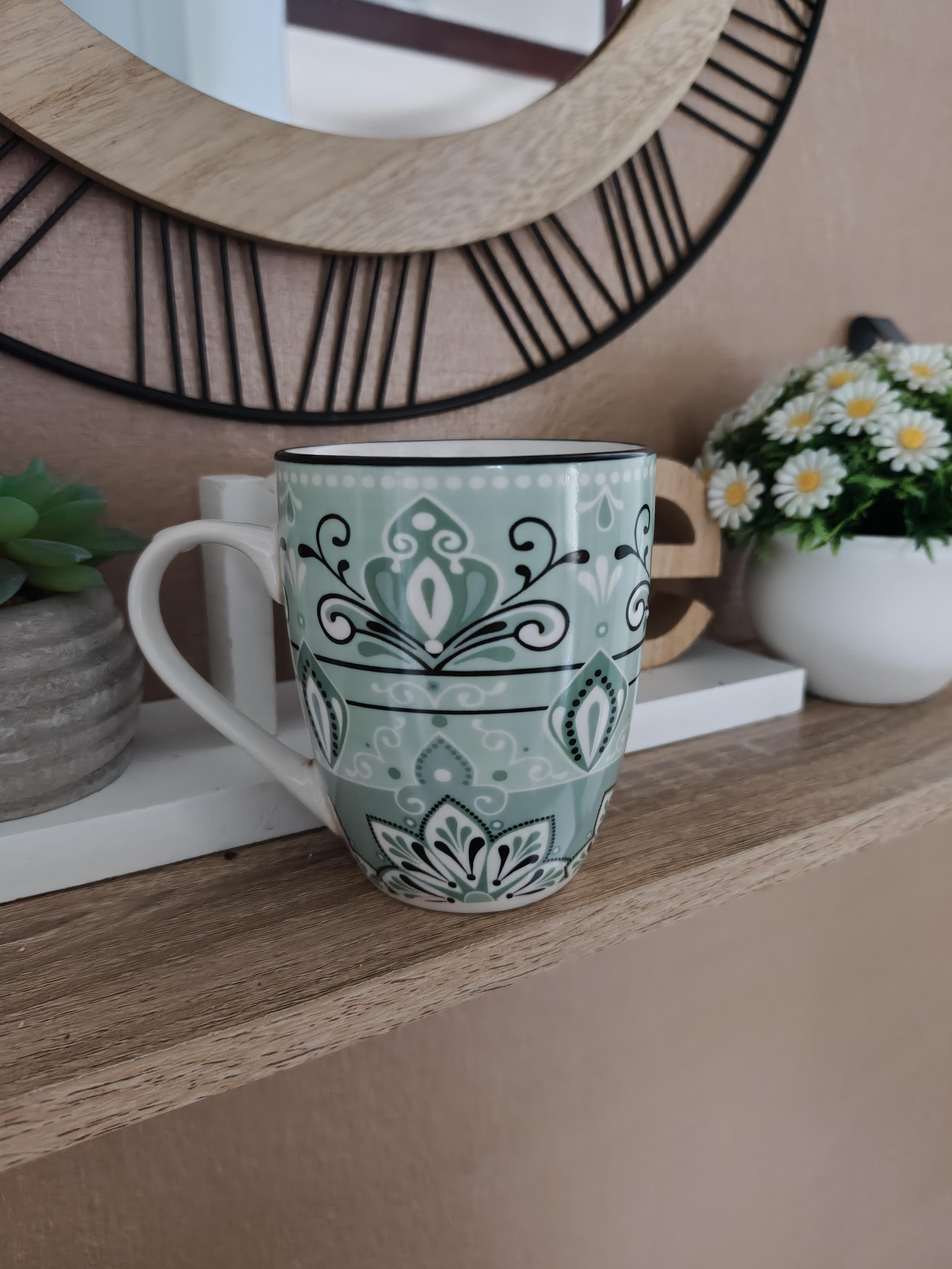mug: (126, 439, 656, 915)
